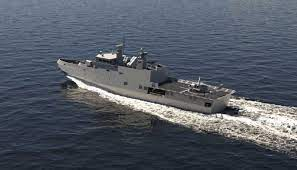Ship: (58, 52, 231, 116)
